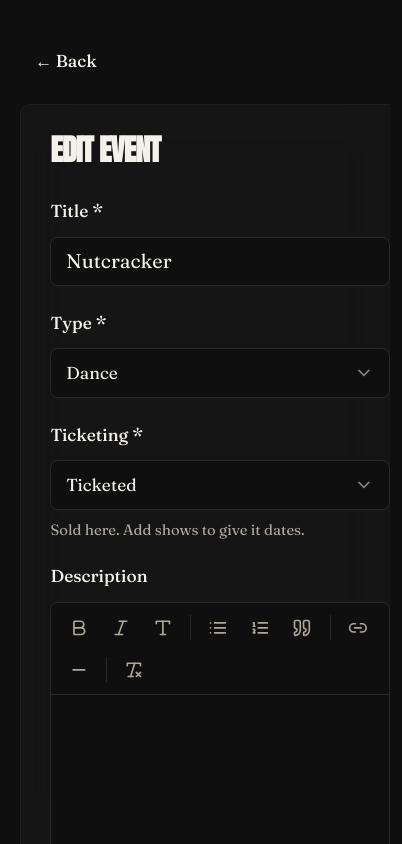
EventForm — one form, both questions › offers every type on an events row, including a screening
The width and height of the screenshot is (402, 844).
Expected: the field labelled "Title *" holds "Nutcracker", [50, 237, 390, 286]
What coordinates should you click on to do the following:
click the dropdown named "Type *"
I would click on:
 (92, 372)
Its box is [50, 348, 390, 398].
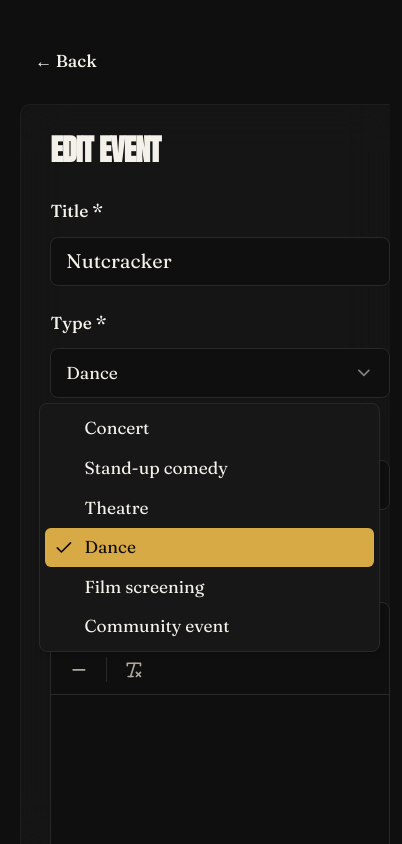
Now the option "Film screening" is shown, box [84, 576, 204, 597]
Now the option "Dance" is shown, box [45, 528, 374, 567]
